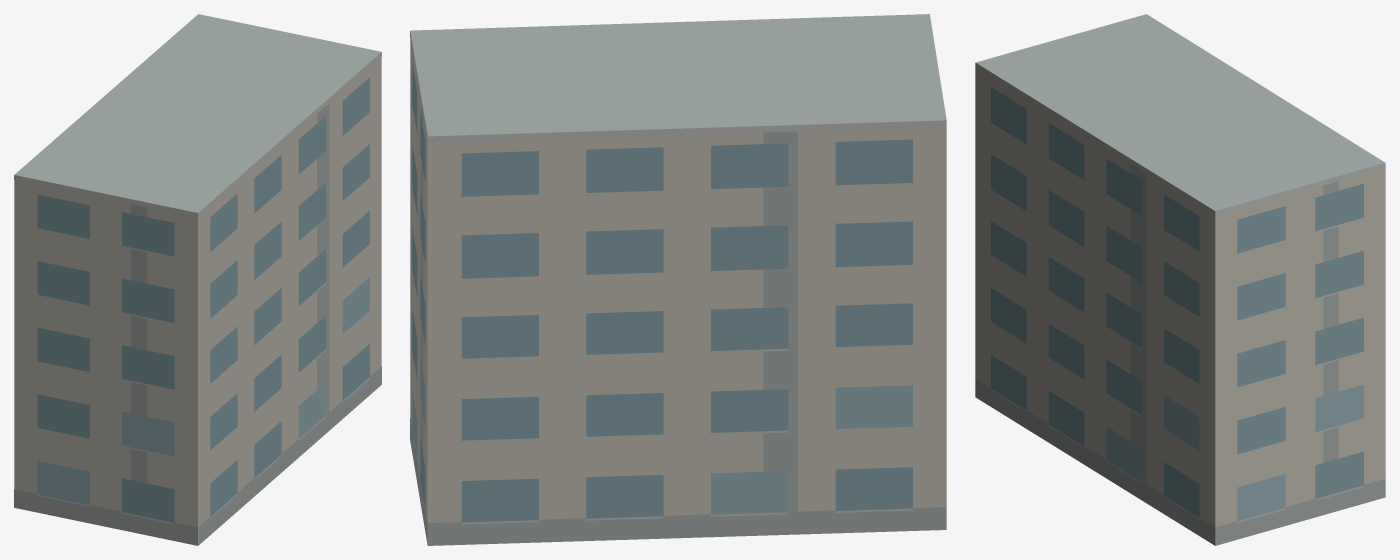
Rendered from survey-upis-32768792.glb.
The picture shows the model from 3 angles, left to right: view 1: azimuth 30°, elevation 25°; view 2: azimuth 150°, elevation 25°; view 3: azimuth 270°, elevation 25°; orthographic projection. The views are drawn at different scales.
Parts seen in each view (by area): view 1: survey-upis-32768792.tmp; view 2: survey-upis-32768792.tmp; view 3: survey-upis-32768792.tmp.
Boxes of the visible parts, x1=… form: survey-upis-32768792.tmp: x1=14, y1=14, x2=381, y2=545; survey-upis-32768792.tmp: x1=410, y1=14, x2=946, y2=545; survey-upis-32768792.tmp: x1=975, y1=14, x2=1385, y2=545.
Size of the model in its own units: 19.78 by 15.65 by 17.39.
